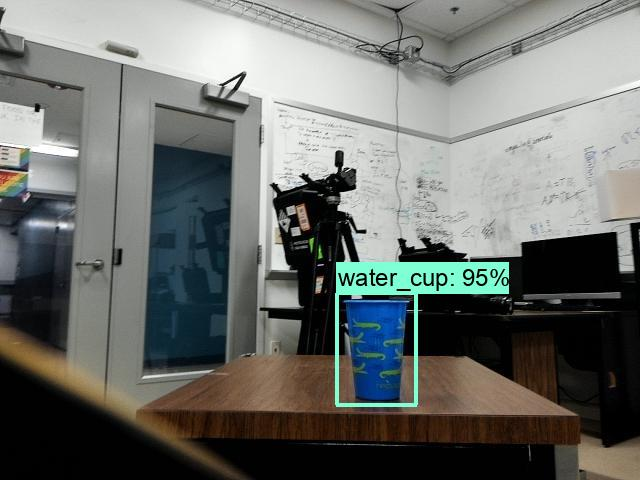water_cup: (336, 298, 413, 405)
